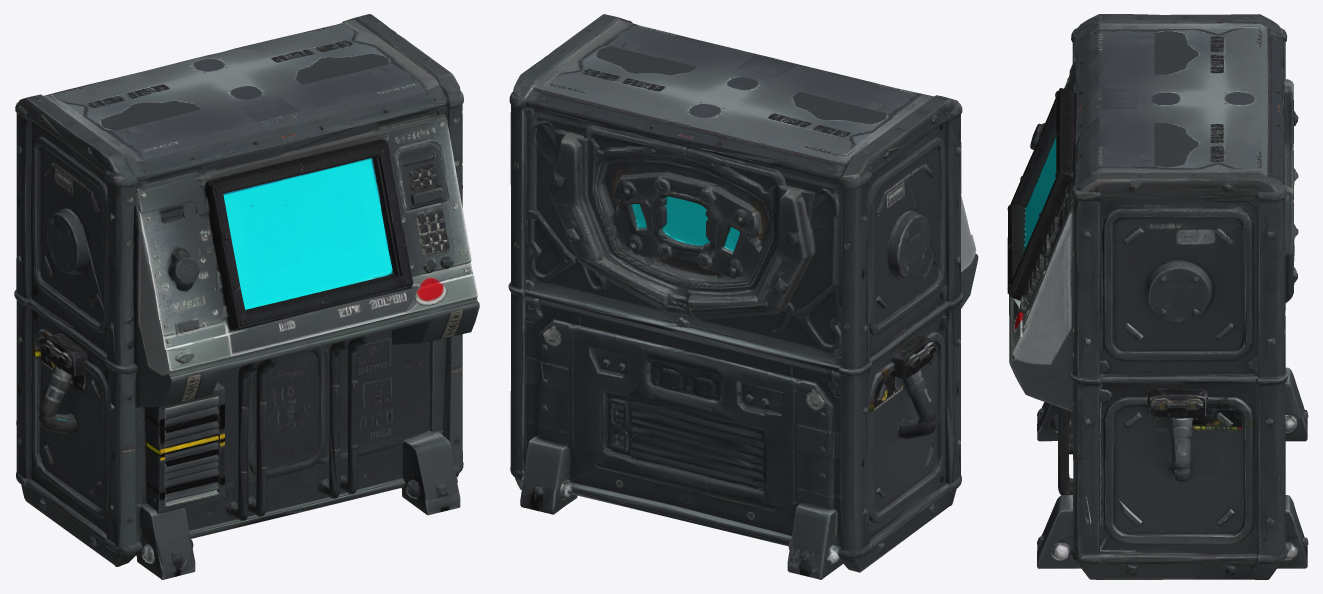
Rendered from prop_console.glb.
3 views of the same model, side by side, from view 1: azimuth 30°, elevation 25°; view 2: azimuth 150°, elevation 25°; view 3: azimuth 270°, elevation 25° (orthographic). The views are drawn at different scales.
Bounding box in the file's own units: 1.9 × 1.87 × 1.27.
1 material, 1 textured.
